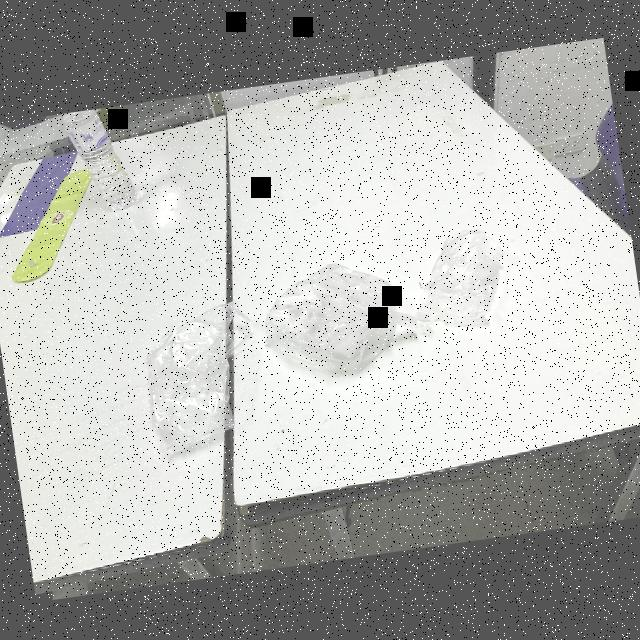plastic_bag: (248, 252, 422, 394), (138, 290, 268, 458)
scrap_plastic: (400, 222, 518, 345)
